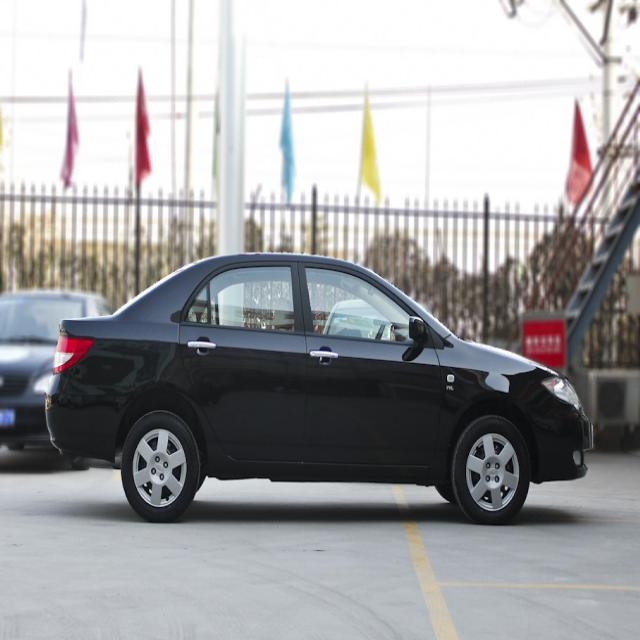back_right_side_light: (51, 330, 94, 377)
door: (170, 257, 313, 468)
front_bumper: (531, 408, 595, 485)
front_right_side_door: (297, 258, 445, 469)
front_right_side_light: (538, 372, 583, 413)
front_right_side_mirror: (408, 312, 430, 348)
rear_bumper: (44, 374, 119, 465)
wheel: (120, 408, 200, 522), (451, 415, 530, 524)
